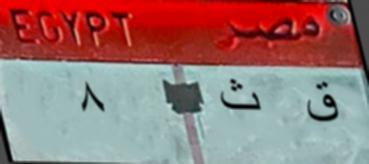8: (74, 76, 110, 124)
qaaf: (298, 78, 346, 130)
thaa: (219, 75, 268, 119)
